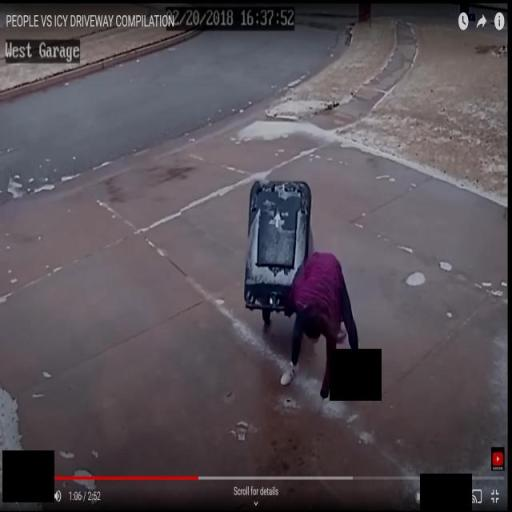Fall: (280, 241, 370, 402)
